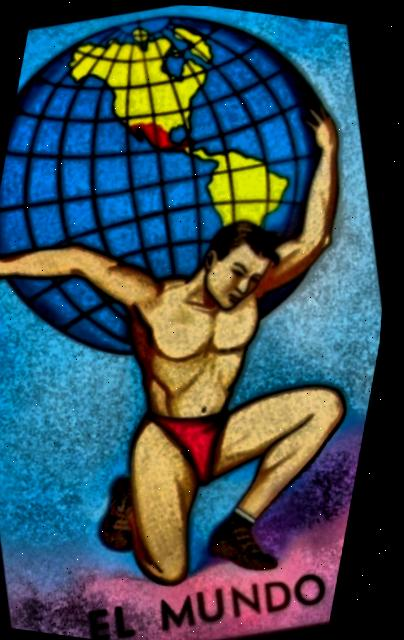El Mundo: (0, 4, 386, 640)
